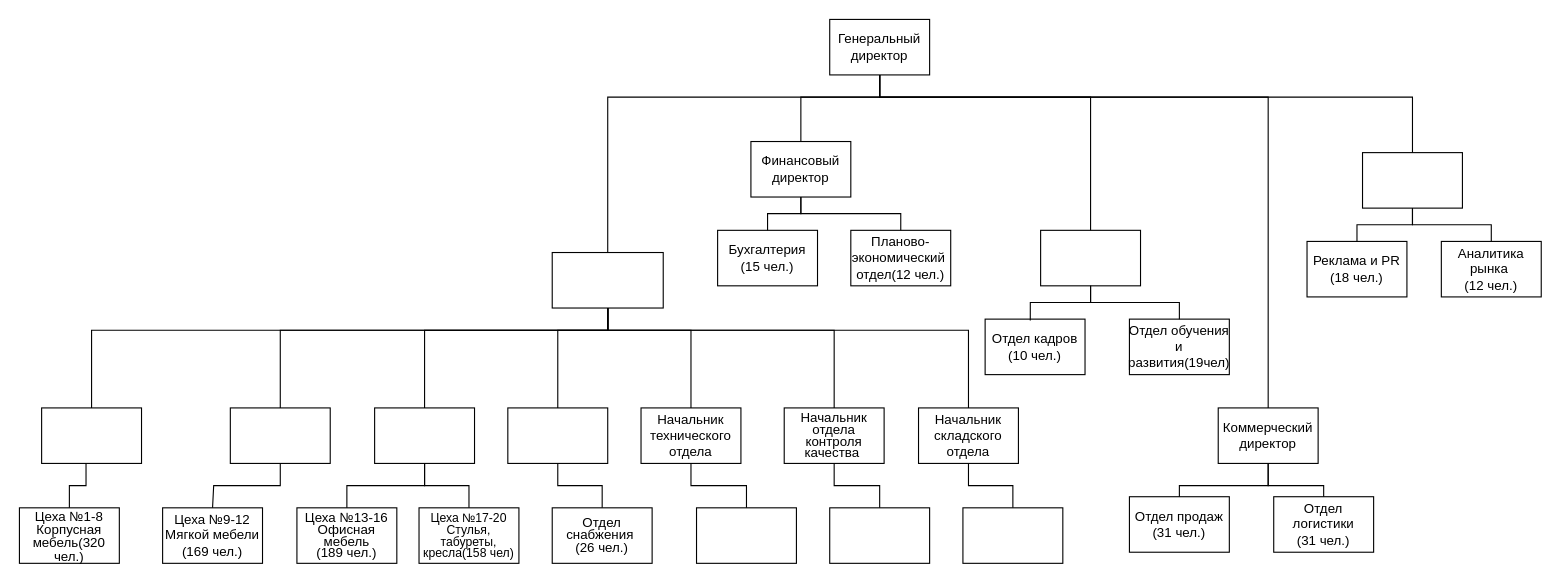
The diagram is 1561 pixels wide and 583 high, and some of its shapes have lost their labels. Here are the shapes that lost their labels. From the top down, the centre of each, then its label:
point 1411,180: Начальник отдела маркетинга
point 1090,257: Директор по персоналу
point 607,279: Исполнительный директор
point 91,435: Директор по корпусной мебели
point 279,435: Директор по мягкой мебели
point 424,435: Директор по офисно мебели и креслам
point 557,435: Начальник отдела снабжения
point 745,535: Технический отдел (31 чел.)
point 879,535: Отдел контроля качества (31 чел.)
point 1012,535: Складской отдел (35 чел.)
